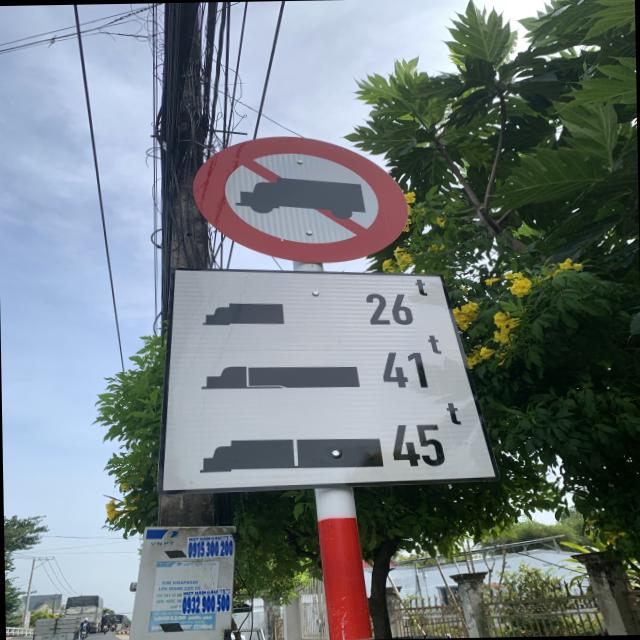Cam_Xe_Tai: (194, 133, 406, 267)
